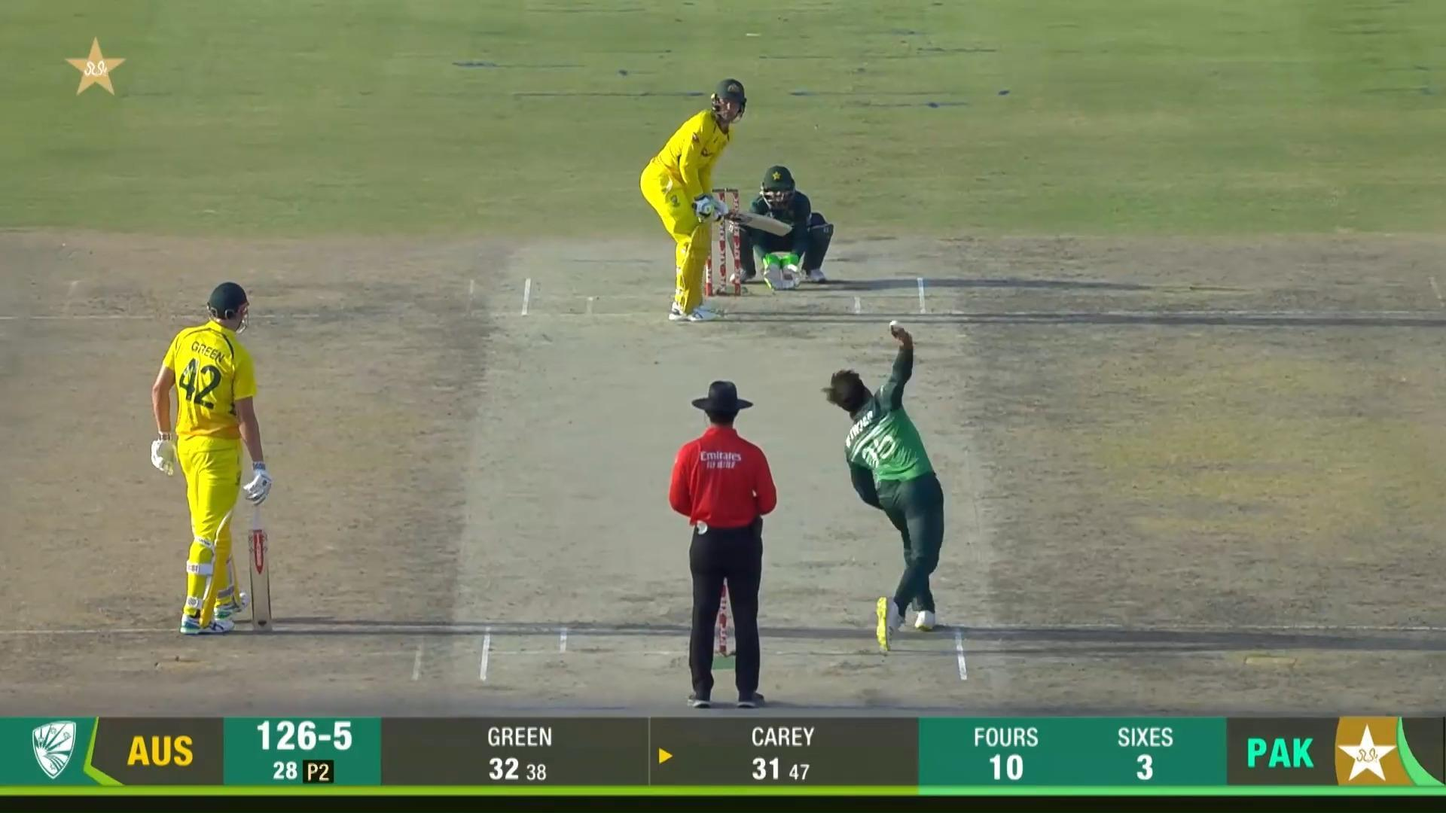BM 1: (640, 78, 792, 322)
BO: (820, 315, 947, 652)
